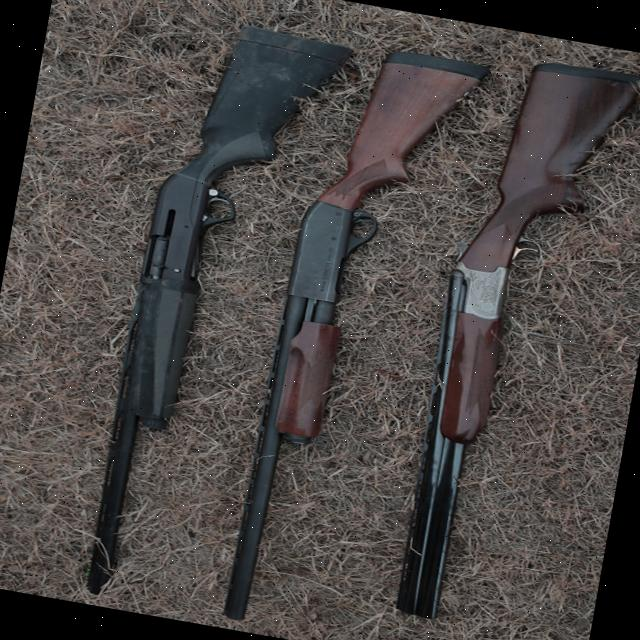Shotgun: (83, 18, 327, 614), (227, 44, 464, 639), (386, 59, 628, 640)
